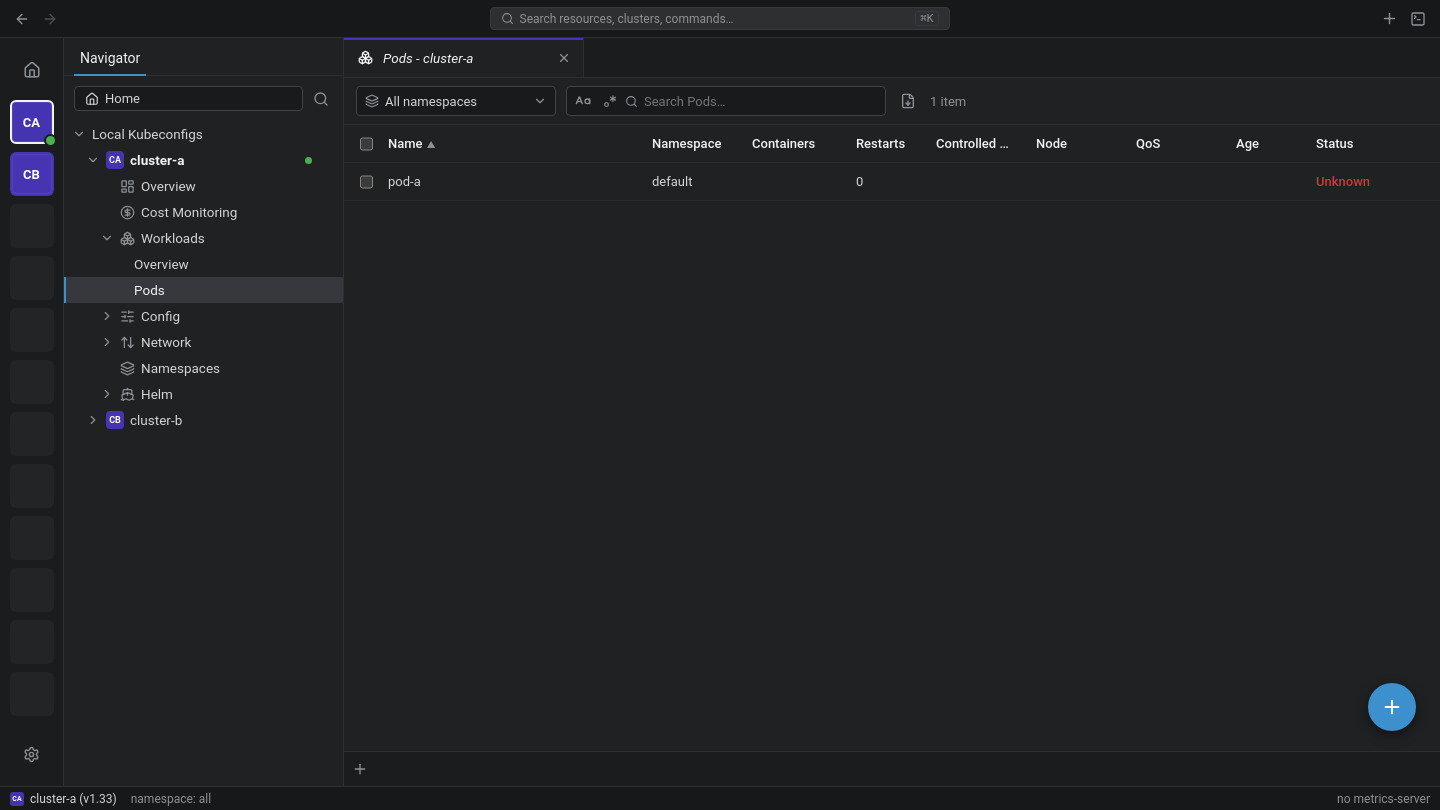
several connected clusters › keeps the first cluster connected when a second one connects
What coordinates should you click on to do the following:
click the text "cluster-b"
I would click on:
 (156, 420)
Its box is [130,412,182,428].
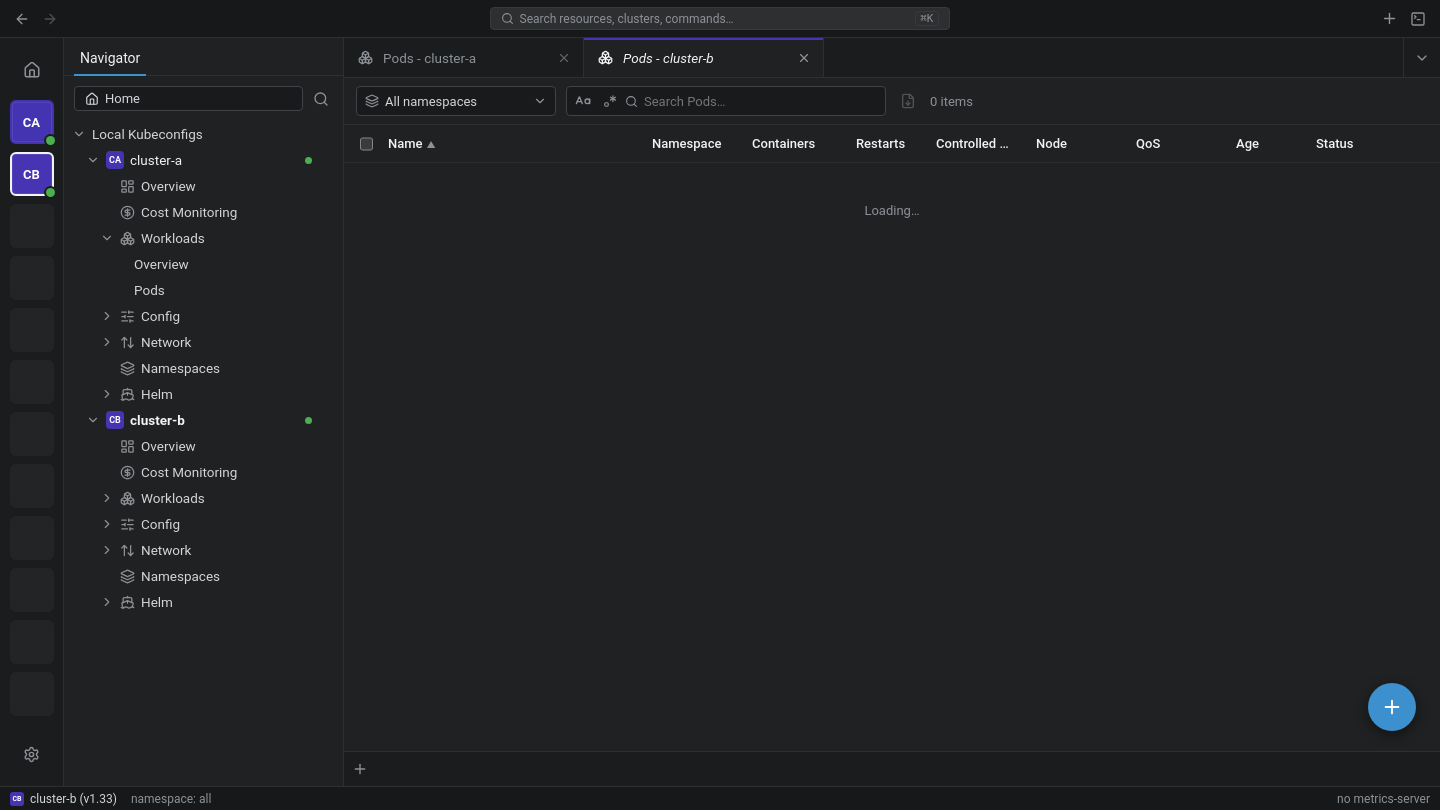
What coordinates should you click on to do the following:
click the element titled "Pods - cluster-a"
I would click on:
 (464, 58)
Its box is [344,38,584,77].
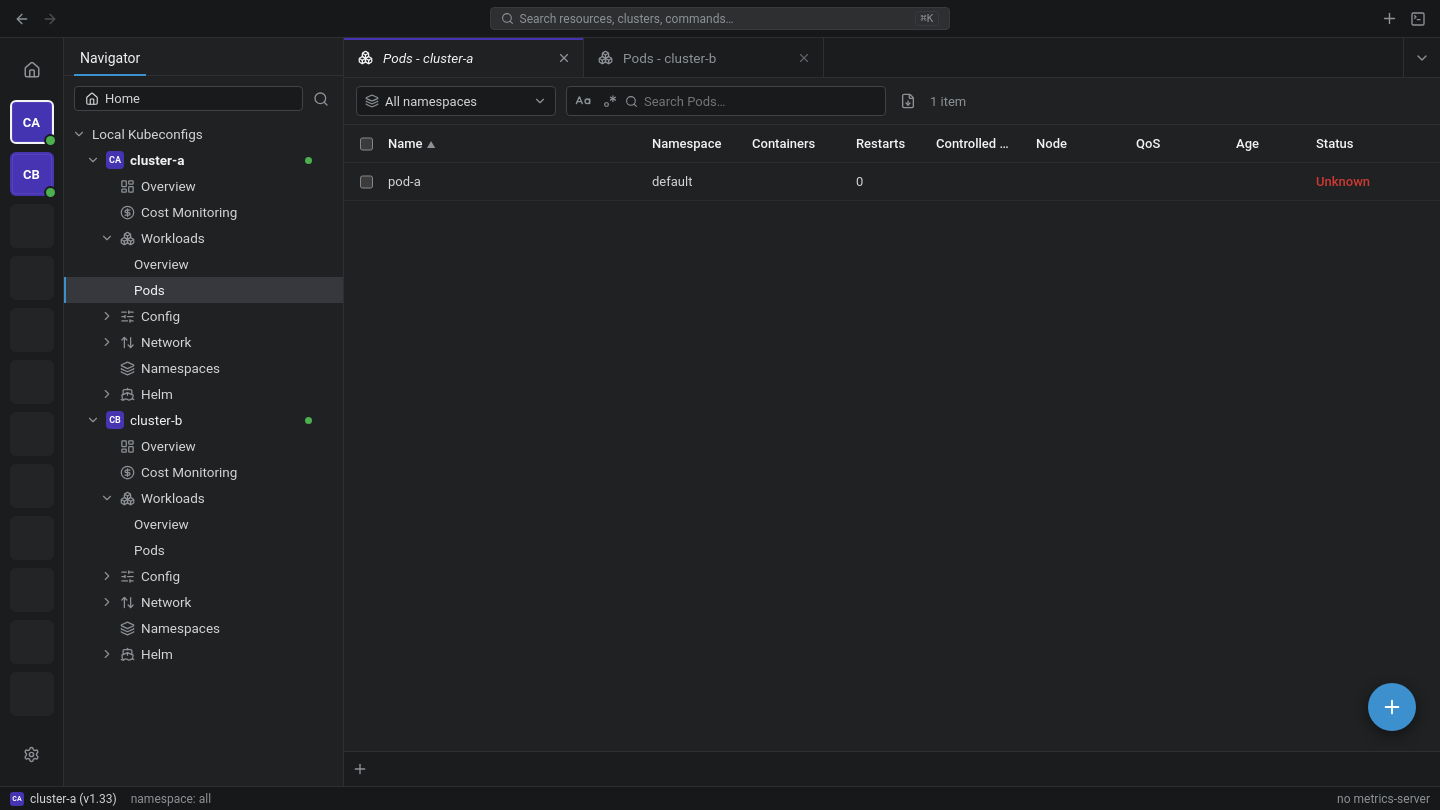
Expected: the text with class "tree-label" reads "cluster-a", [130,152,184,168]
Expected: the text "pod-a" is shown, [388,174,421,189]
